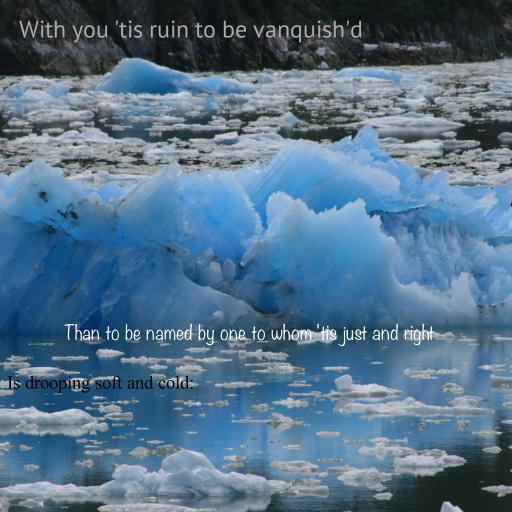Noteworthy: (64, 323, 434, 347)
PT Sans: (19, 20, 363, 43)
Times New Roman: (6, 375, 194, 393)
